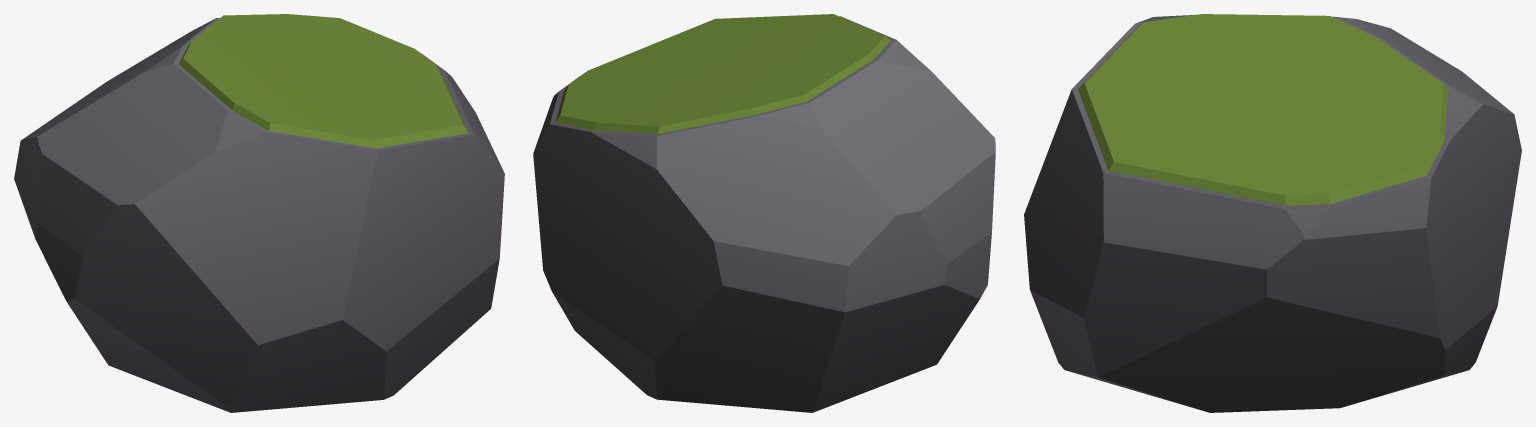
The model's file is Rock_08.glb.
The picture shows the model from 3 angles, left to right: view 1: azimuth 30°, elevation 25°; view 2: azimuth 150°, elevation 25°; view 3: azimuth 270°, elevation 25°; orthographic projection. The views are drawn at different scales.
Visible parts, largest first — view 1: Rock_08_LOD0; view 2: Rock_08_LOD0; view 3: Rock_08_LOD0.
Boxes of the visible parts, x1,y1,x2,y2 form: Rock_08_LOD0: (14, 14, 504, 412); Rock_08_LOD0: (533, 14, 995, 412); Rock_08_LOD0: (1024, 14, 1521, 412).
Size of what is drawn, in the model's own units: 0.9996 by 0.6444 by 0.9423.
1 material, 1 textured.
